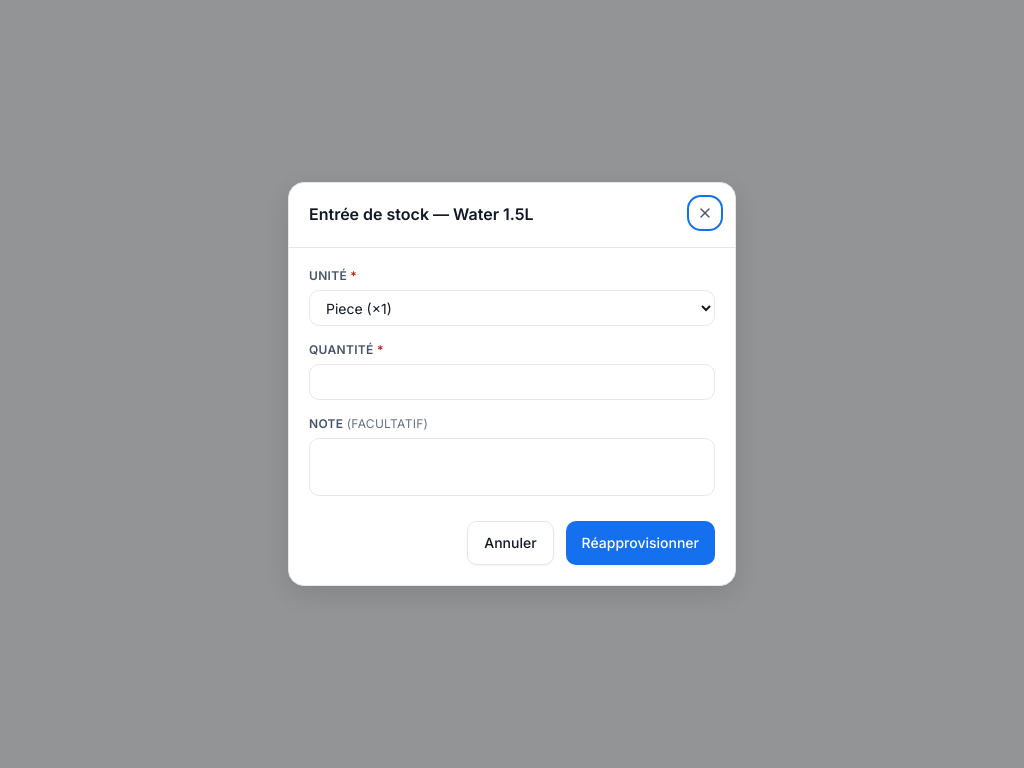
Scenario: RestockModal mutation error path › renders mapped INVALID_UNIT after RPC error
Type "2" into the number field at point(512, 382), box [309,364,715,400]
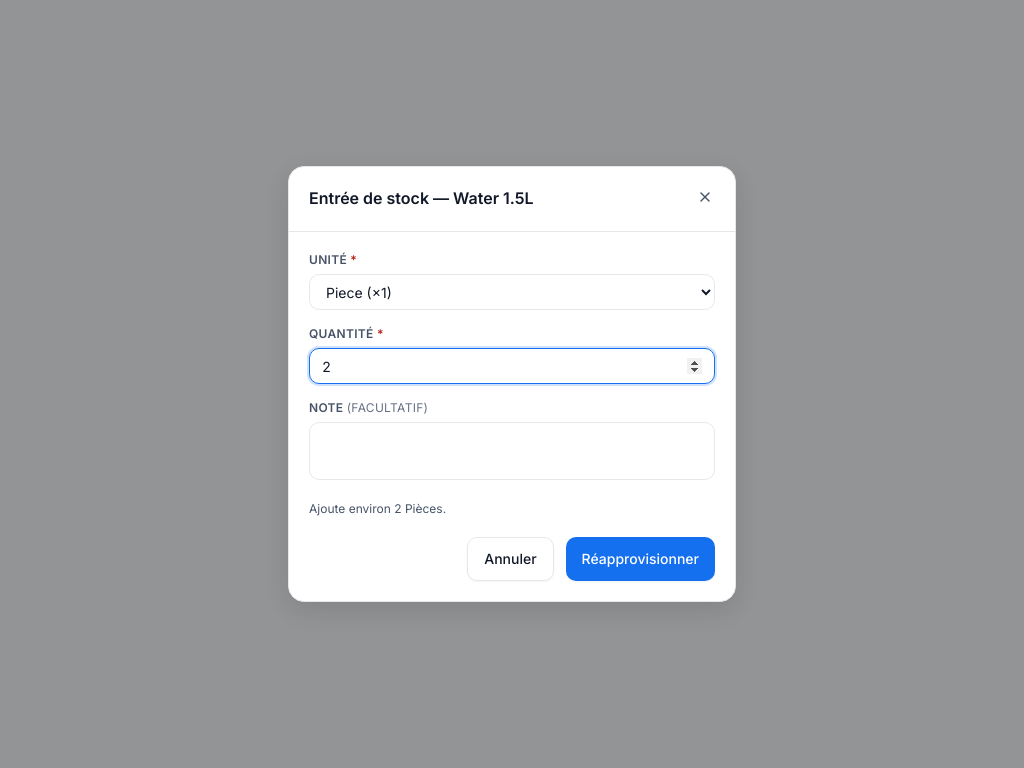
Click the button "Réapprovisionner" at point(640, 559), box [566,537,715,581]
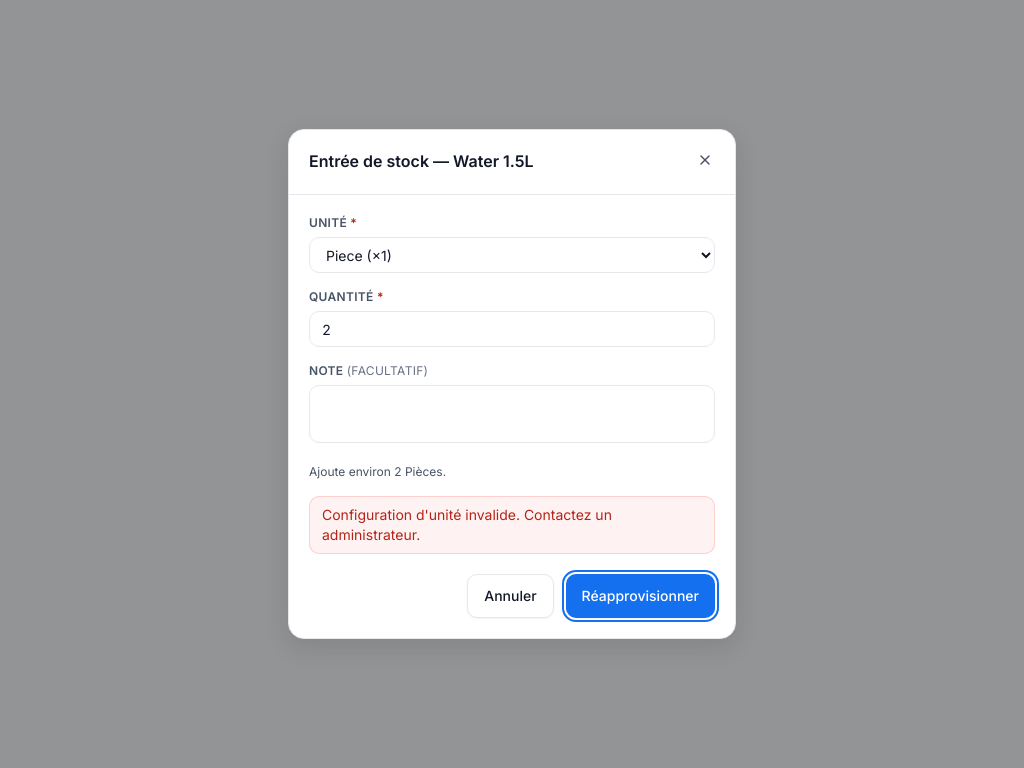
Now the text "Configuration d'unité invalide. Contactez un administrateur." is shown, box [322,506,612,543]
